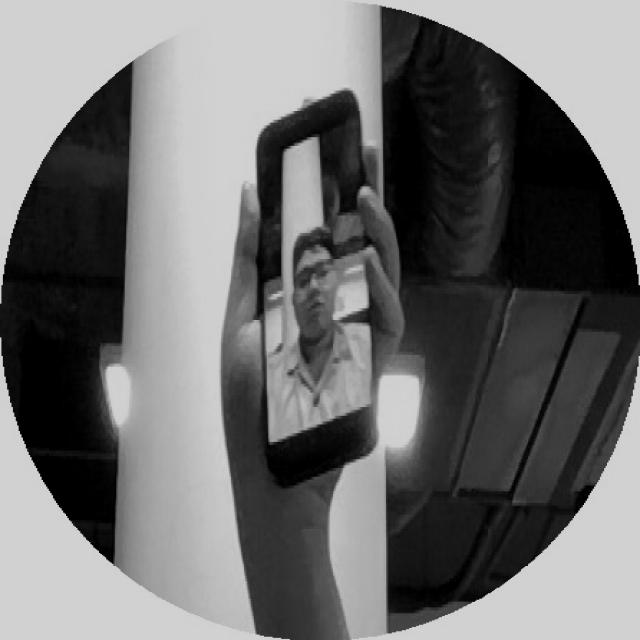fake: (184, 54, 436, 506), (195, 76, 419, 488)
